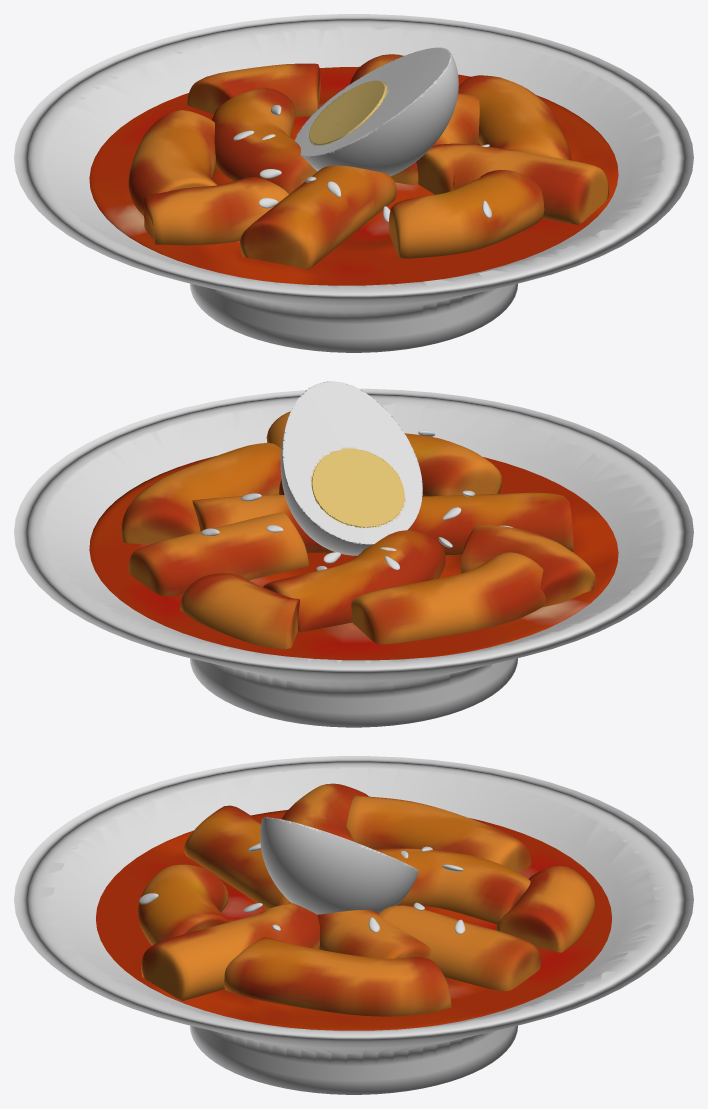
Rendered from tteokbokki.fbx.
3 renders of one model, top to bottom at view 1: azimuth 30°, elevation 25°; view 2: azimuth 150°, elevation 25°; view 3: azimuth 270°, elevation 25°, orthographic.
Visible parts, largest first — view 1: 원통 2, 튜브 (×9), 원통 1, 구체; view 2: 원통 2, 튜브 (×9), 원통 1, 구체; view 3: 원통 2, 튜브 (×10), 원통 1, 구체.
Boxes of the visible parts, left/top/right/bottom form: 원통 2: left=14, top=14, right=693, bottom=352; 튜브 (×9): left=128, top=63, right=608, bottom=269; 원통 1: left=89, top=66, right=618, bottom=285; 구체: left=294, top=47, right=458, bottom=176; 원통 2: left=14, top=388, right=693, bottom=727; 튜브 (×9): left=121, top=433, right=595, bottom=649; 원통 1: left=89, top=456, right=618, bottom=660; 구체: left=280, top=381, right=422, bottom=555; 원통 2: left=14, top=756, right=693, bottom=1094; 튜브 (×10): left=137, top=783, right=594, bottom=1016; 원통 1: left=96, top=810, right=611, bottom=1030; 구체: left=260, top=817, right=418, bottom=914.
Bounding box in the file's own units: 2.07 × 0.7934 × 2.07.
